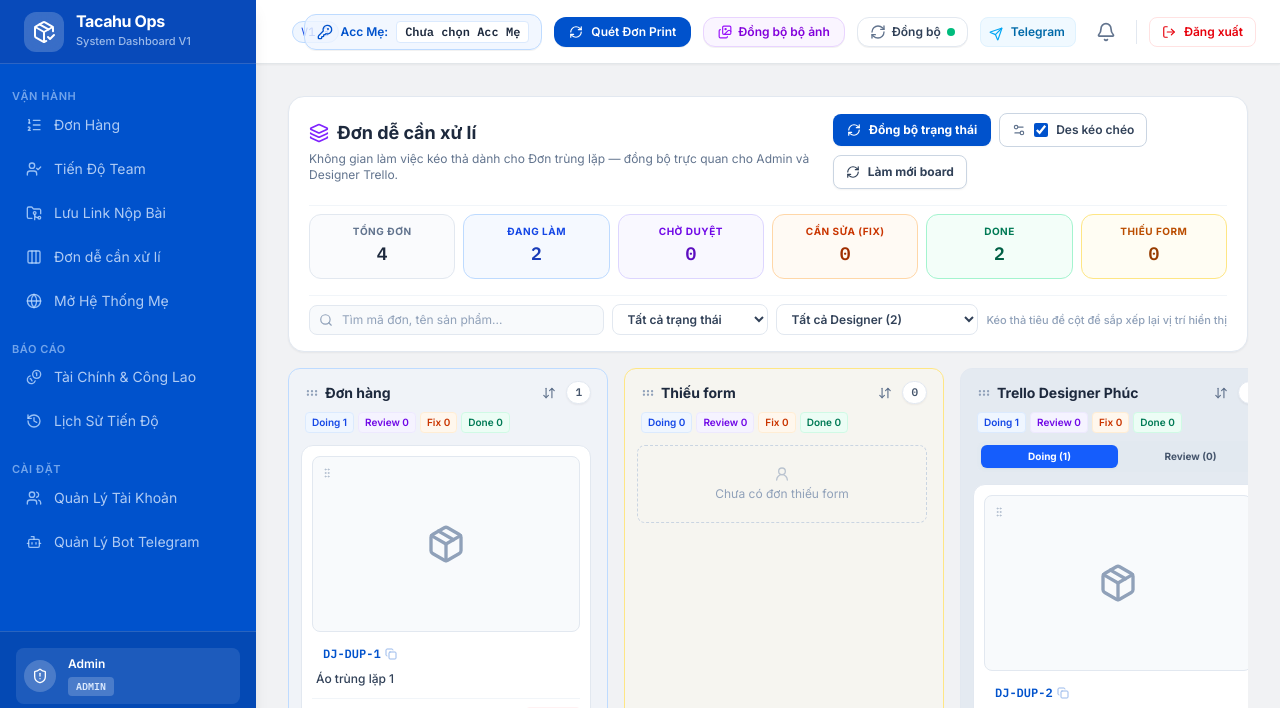
Scenario: DuplicateBoardPage › filters cards with global search input
The width and height of the screenshot is (1280, 708).
expect the text "DJ-DUP-1" is shown: met, box [323,646,381,662]
expect the text "DJ-DUP-2" is shown: met, box [995,685,1053,701]
// Type in global search
Type "DJ-DUP-2" into the field with placeholder "Tìm mã đơn, tên sản phẩm..." at point(457, 320), box [309,305,604,335]
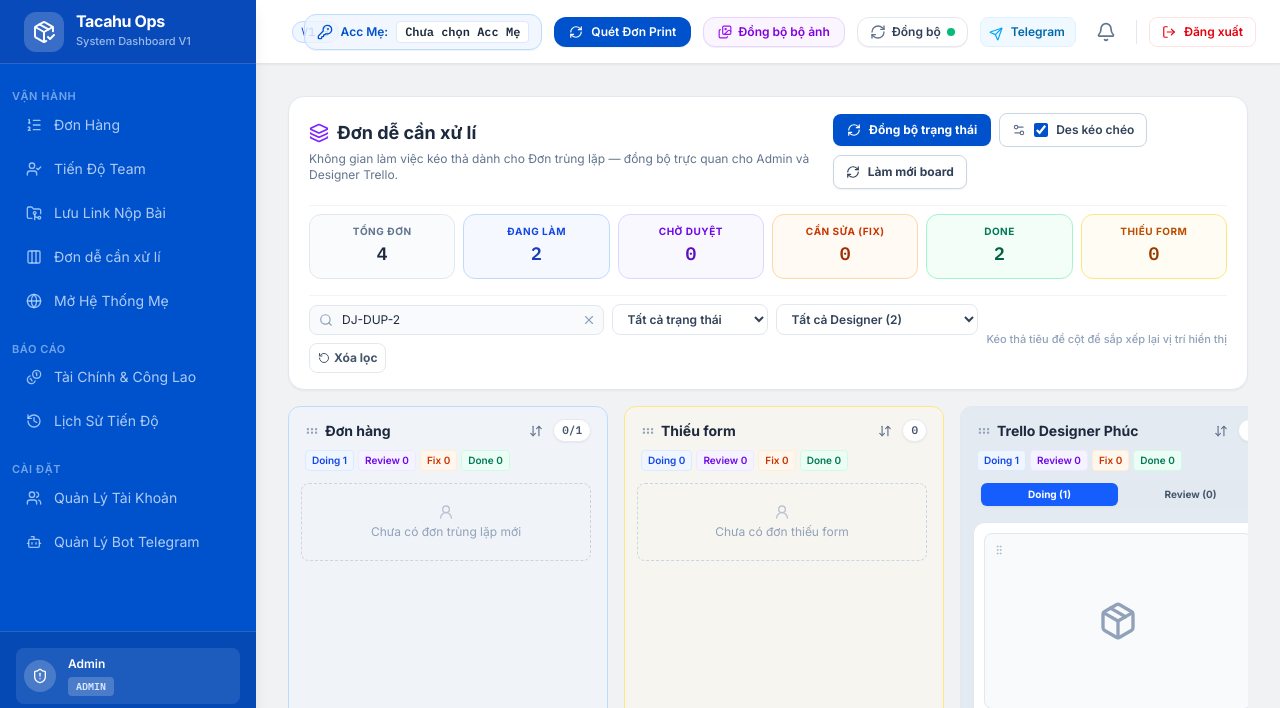
expect the button "DJ-DUP-1" is gone: met
// Clear search
Clear the field with placeholder "Tìm mã đơn, tên sản phẩm..." at point(457, 320), box [309,305,604,335]
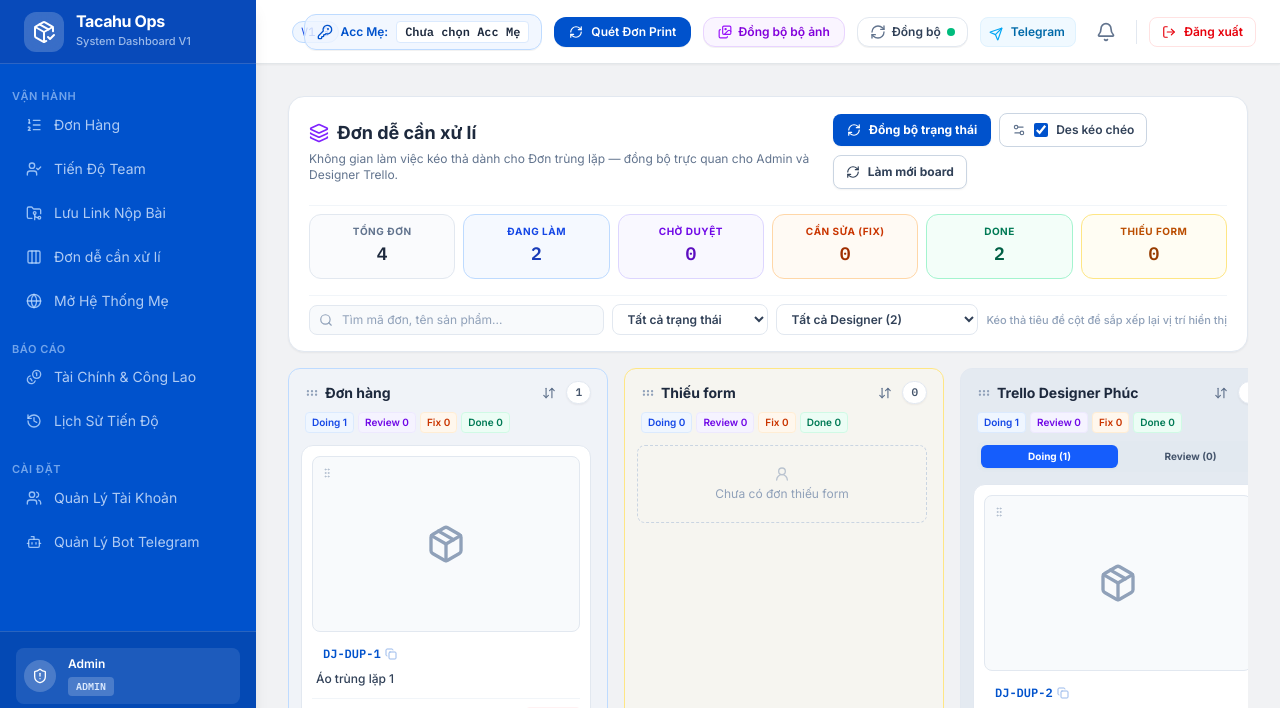
expect the text "DJ-DUP-1" is shown: met, box [323,646,381,662]
expect the text "DJ-DUP-2" is shown: met, box [995,685,1053,701]
